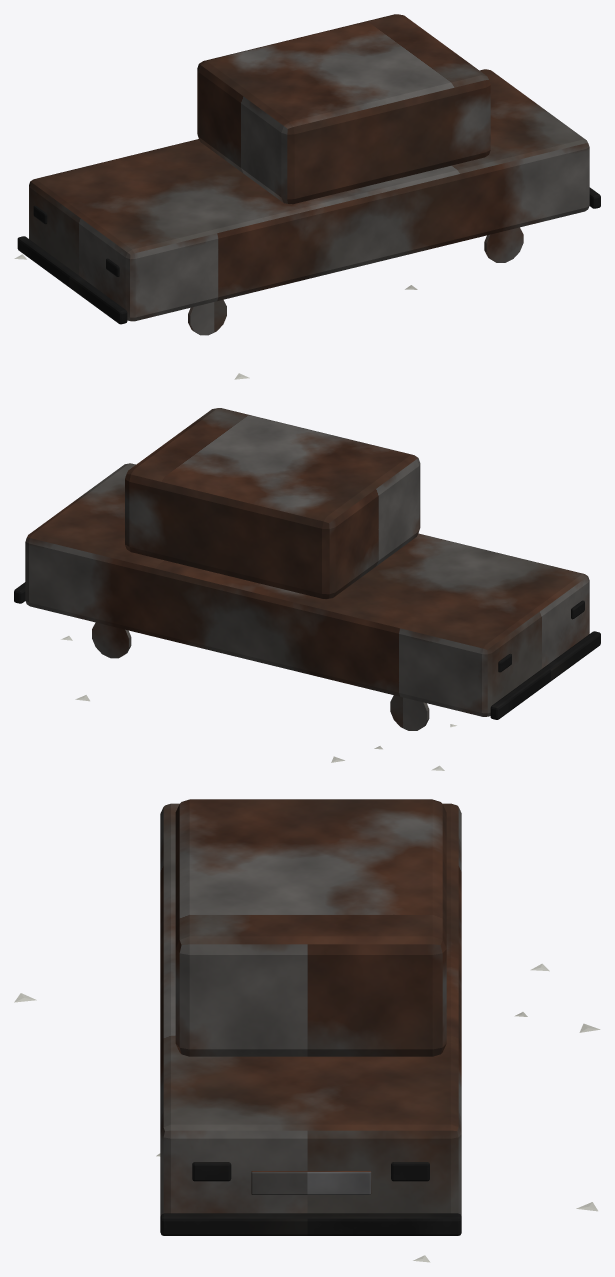
The model's file is JV02_burnt_car_shell_v2.glb.
3 renders of one model, top to bottom at view 1: azimuth 30°, elevation 25°; view 2: azimuth 150°, elevation 25°; view 3: azimuth 270°, elevation 25°, orthographic. The views are drawn at different scales.
Parts seen in each view (by area): view 1: JV02_burnt_car_shell_v2; view 2: JV02_burnt_car_shell_v2; view 3: JV02_burnt_car_shell_v2.
Part boxes in pixels (x1,y1,x2,y2): JV02_burnt_car_shell_v2: [14, 14, 600, 379]; JV02_burnt_car_shell_v2: [14, 408, 600, 770]; JV02_burnt_car_shell_v2: [14, 799, 600, 1262].
Bounding box in the file's own units: 4.4 × 1.64 × 3.18.
Materials: 5 (5 with a texture image).
